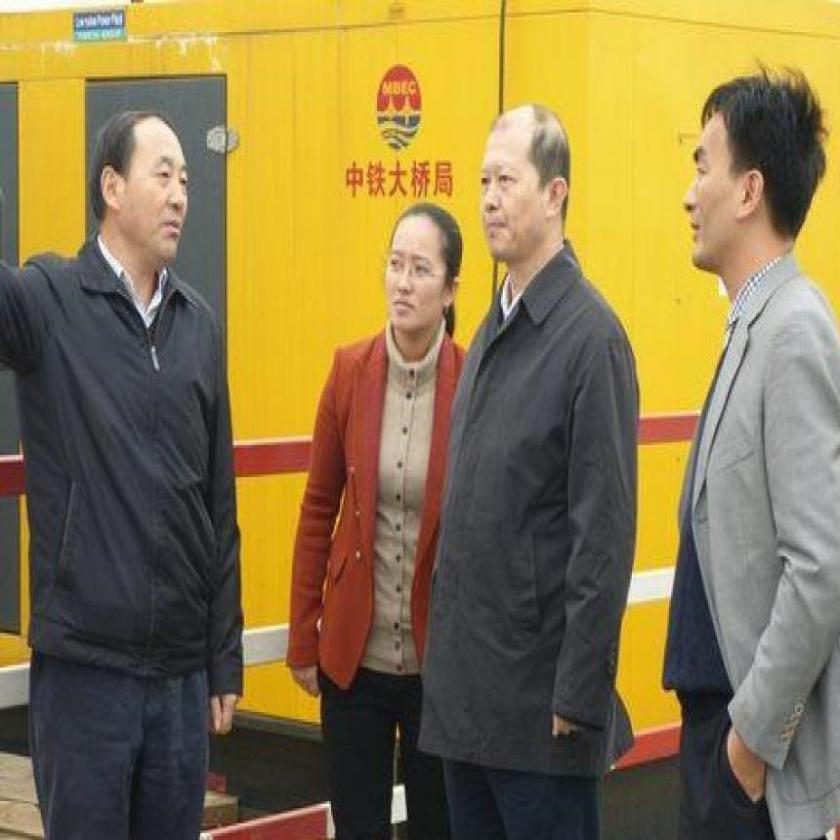Sin_casco: (680, 64, 822, 284), (78, 103, 195, 278), (479, 105, 568, 267), (375, 198, 458, 352)
